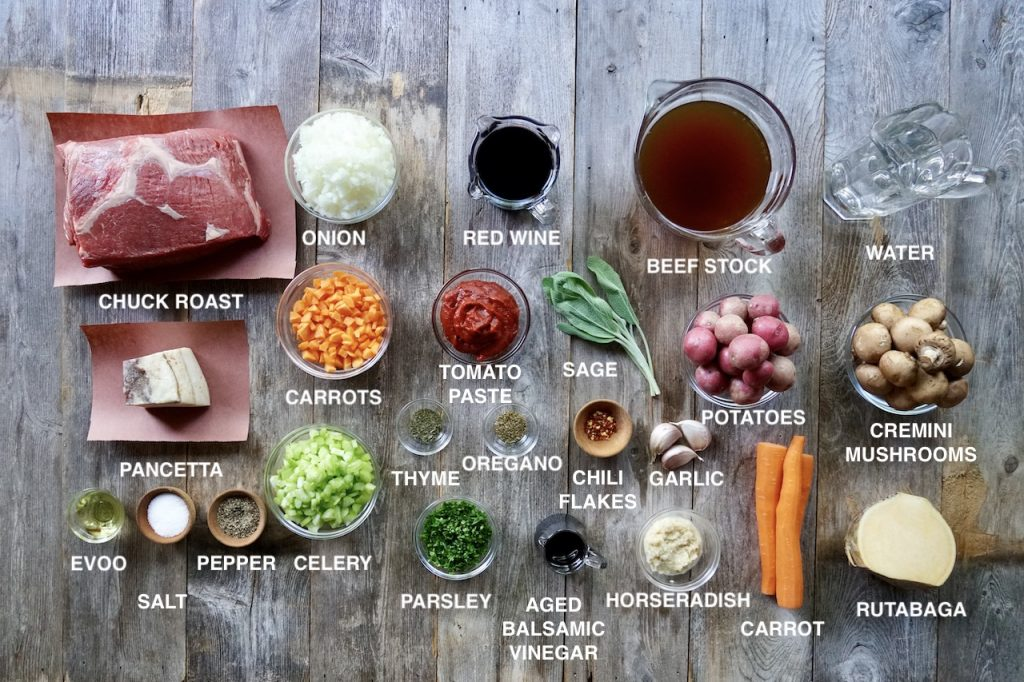Beef: (48, 128, 278, 271)
Carrot: (767, 427, 820, 612), (747, 434, 787, 600)
Mushroom: (750, 316, 805, 360), (752, 351, 799, 396), (912, 329, 956, 372), (848, 320, 891, 364), (721, 365, 762, 407), (877, 347, 921, 385), (724, 333, 771, 367), (904, 296, 950, 330), (888, 315, 934, 348), (687, 356, 730, 391), (905, 374, 948, 404), (712, 309, 751, 339), (852, 357, 886, 391), (683, 328, 714, 362), (868, 302, 906, 329), (741, 291, 777, 319)
